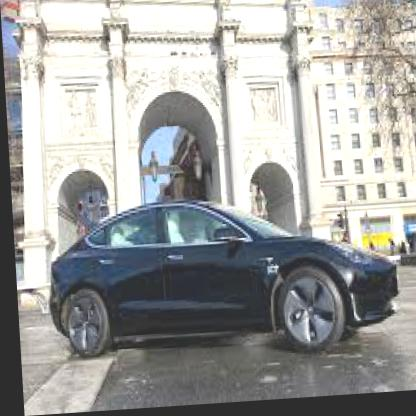Car: (41, 190, 397, 371)
